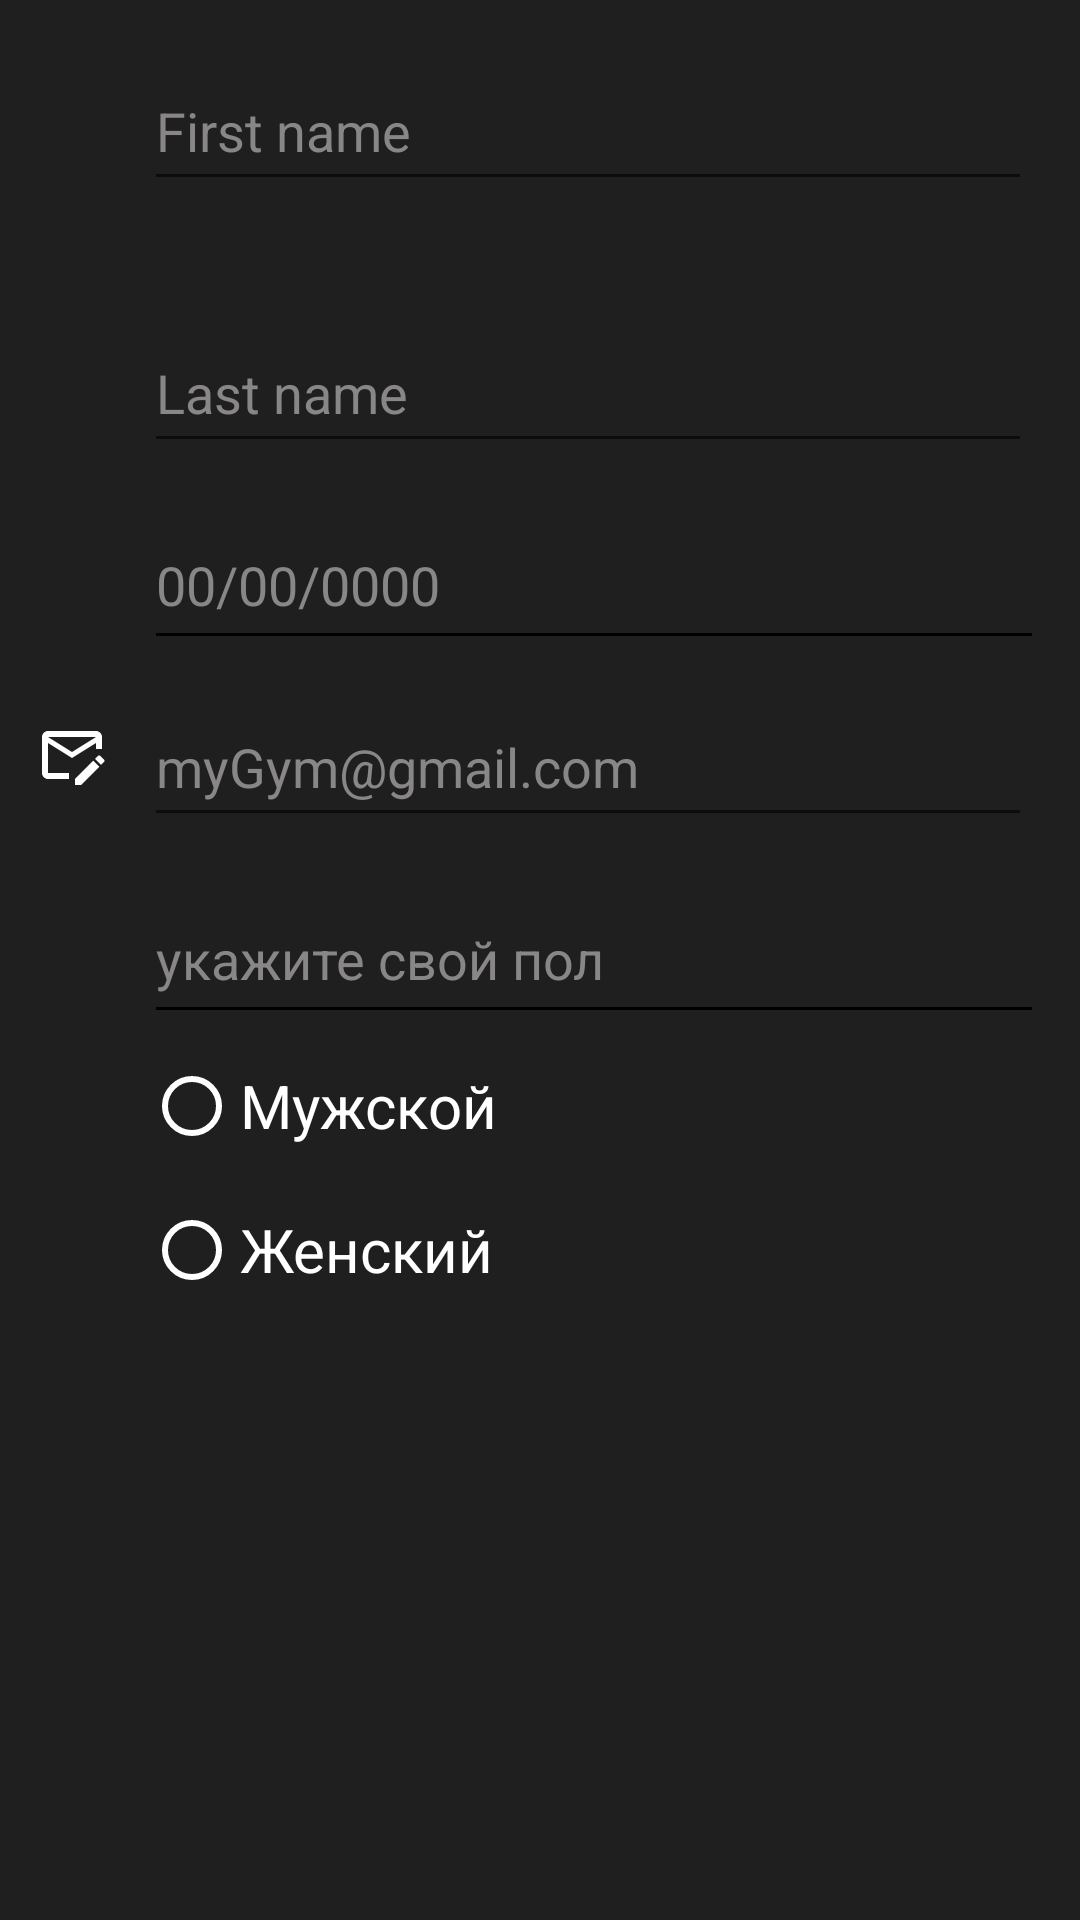

Locate icon controls on the screen. Image size 1080px x 1920px, boxes as (x1, y1, x2, y2).
email: (42, 731, 105, 785)
